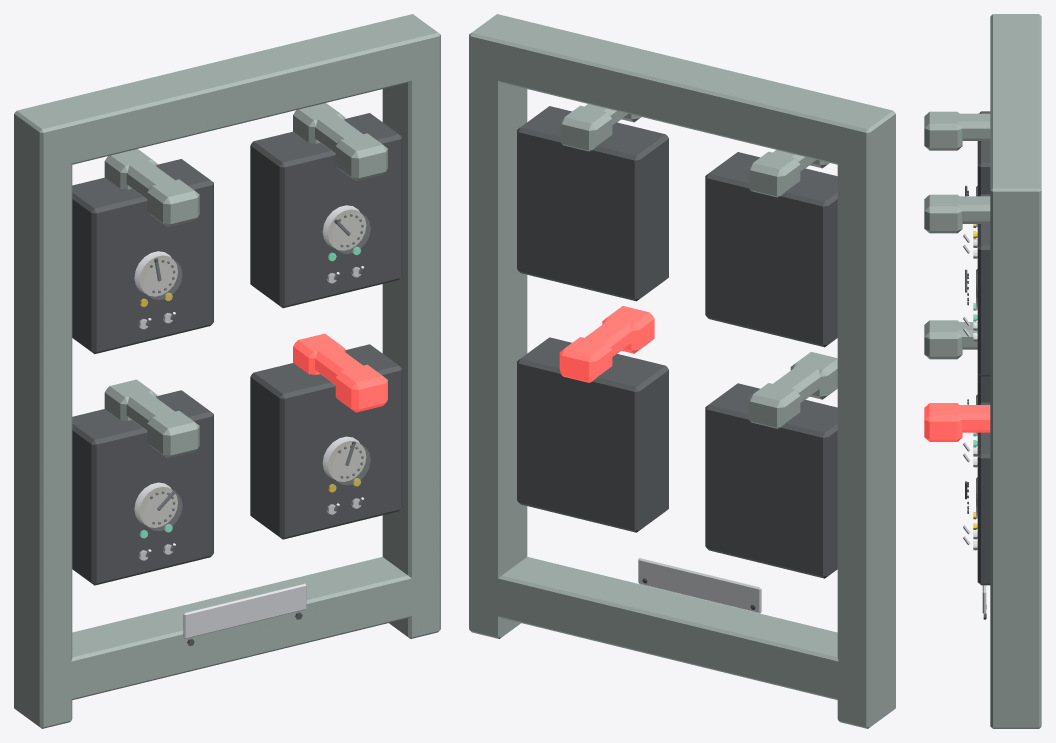
The model's file is nuclear-power-station-and-control-room-telephone-rack-1fb60466__36921.glb.
3 views of the same model, side by side, from view 1: azimuth 30°, elevation 25°; view 2: azimuth 150°, elevation 25°; view 3: azimuth 270°, elevation 25° (orthographic). The views are drawn at different scales.
Visible parts, largest first — view 1: telephone-rack; view 2: telephone-rack; view 3: telephone-rack.
Part boxes in pixels (left/top/right/bottom): telephone-rack: left=14, top=14, right=440, bottom=728; telephone-rack: left=469, top=14, right=895, bottom=728; telephone-rack: left=924, top=14, right=1041, bottom=728.
Bounding box in the file's own units: 0.98 × 1.4 × 0.275.
